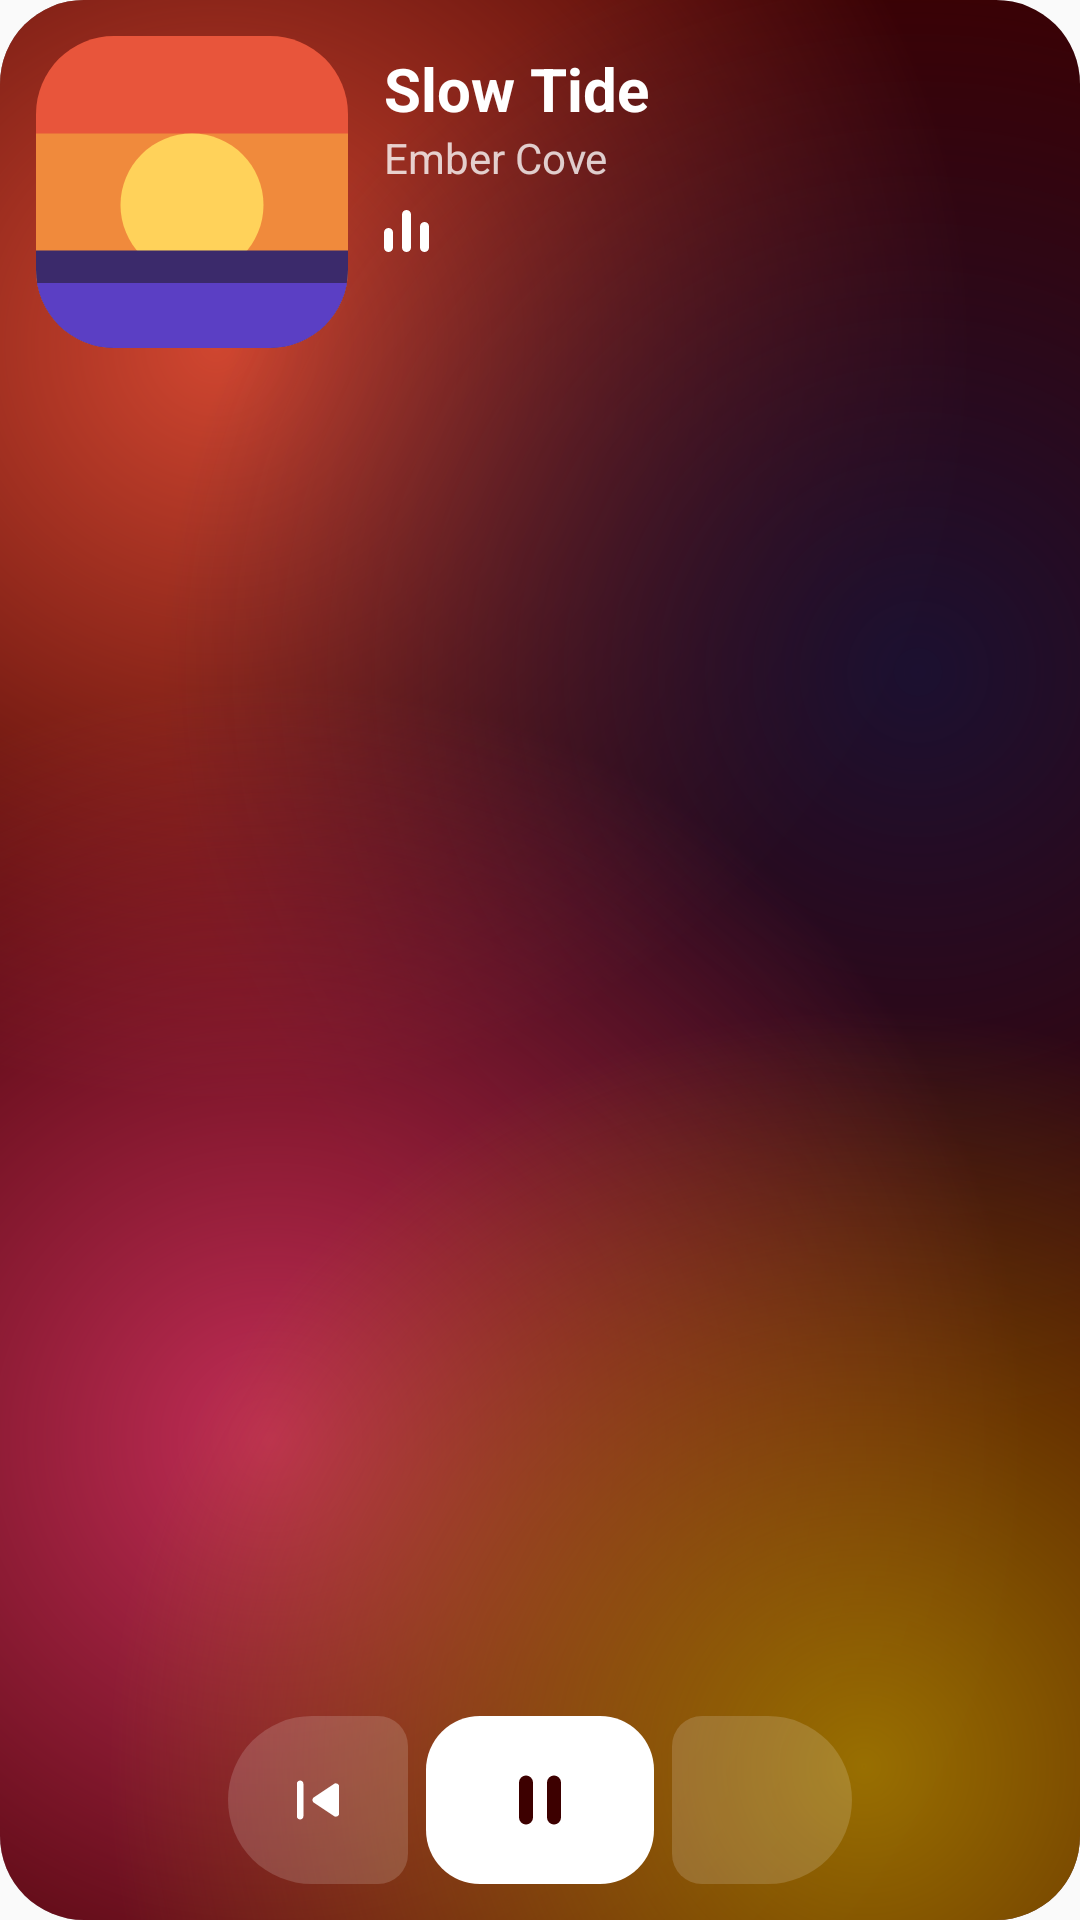

Named icons in this screenshot (1080px x 1920px) and their bounding boxes, (x1, y1, x2, y2):
sym pause: (519, 1775, 561, 1825)
sym skip previous: (297, 1780, 339, 1820)
widget bars: (384, 210, 429, 252)
